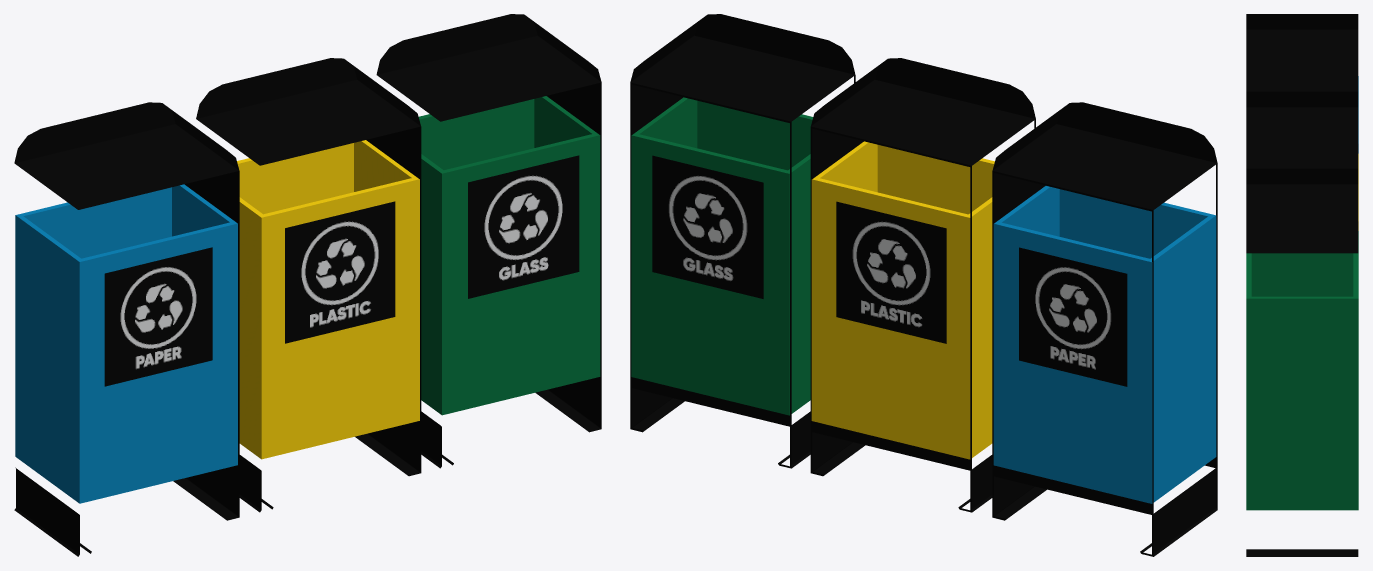
The model's file is D1_GARBAGE_CANS.fbx.
The picture shows the model from 3 angles, left to right: view 1: azimuth 30°, elevation 25°; view 2: azimuth 150°, elevation 25°; view 3: azimuth 270°, elevation 25°; orthographic projection. The views are drawn at different scales.
Parts seen in each view (by area): view 1: D1_RECYCLE_BINS; view 2: D1_RECYCLE_BINS; view 3: D1_RECYCLE_BINS.
Boxes of the visible parts, box(x1,y1,x2,y2) form: D1_RECYCLE_BINS: box(14, 14, 601, 556); D1_RECYCLE_BINS: box(630, 14, 1217, 556); D1_RECYCLE_BINS: box(1246, 14, 1358, 556).
Size of the model in its own units: 176 by 121 by 37.49.
7 materials, 3 textured.
